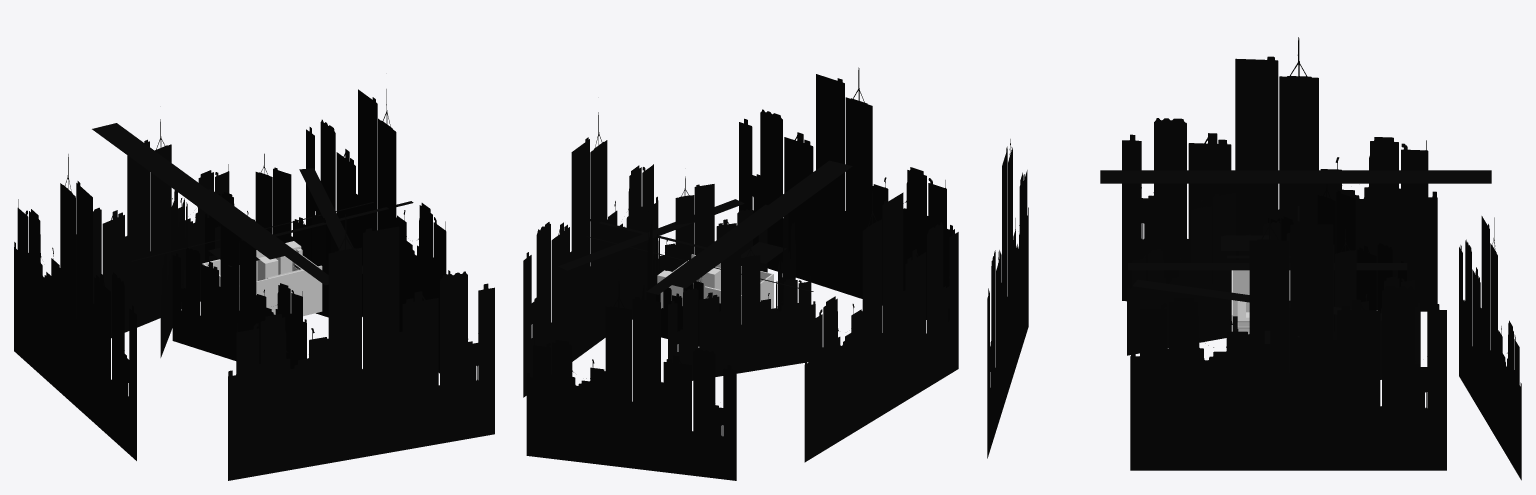
The model's file is Demo_scenario.fbx.
3 views of the same model, side by side, from view 1: azimuth 30°, elevation 25°; view 2: azimuth 150°, elevation 25°; view 3: azimuth 270°, elevation 25° (orthographic). The views are drawn at different scales.
Parts seen in each view (by area): view 1: landscape, Cube, estructura_base; view 2: landscape, Cube, estructura_base; view 3: landscape, Cube, estructura_base.
Boxes of the visible parts, box(x1,y1,x2,y2) form: landscape: box(14, 89, 494, 480); Cube: box(92, 123, 413, 285); estructura_base: box(202, 241, 322, 316); landscape: box(523, 67, 958, 480); Cube: box(558, 160, 852, 298); estructura_base: box(657, 254, 773, 324); landscape: box(987, 37, 1521, 480); Cube: box(1100, 170, 1491, 343); estructura_base: box(1231, 270, 1290, 334).
Size of the model in its own units: 110083 by 89076 by 135903.
